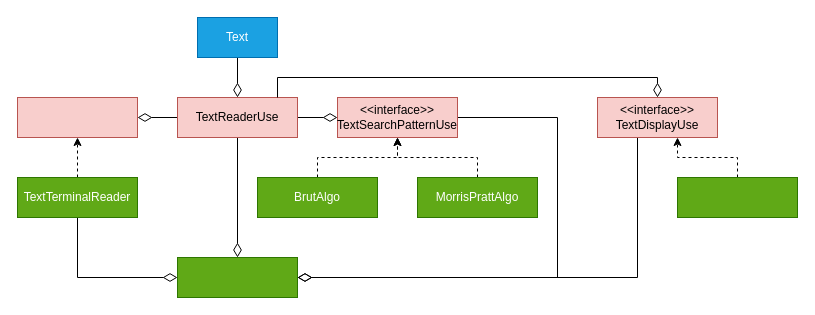
The diagram is 815 pixels wide and 315 high, and some of its shapes have lost their labels. Each missing label, with the box of its shape:
<<interface>> TextReaderInput: (16, 96, 138, 138)
Main: (176, 256, 298, 298)
TerminalDisplay: (676, 176, 798, 218)
